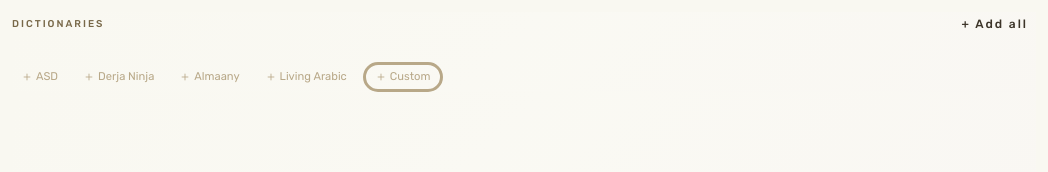
Test: DictionaryLinks › opens custom add form and autofills URL
This screenshot has width=1048, height=172.
Click the button "Custom": (403, 77) [363, 62, 443, 92]
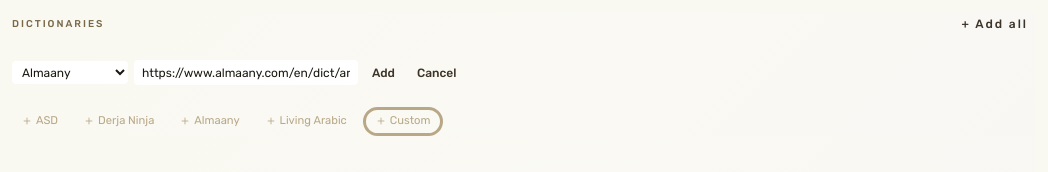
Now the field with placeholder "URL" holds "https://www.almaany.com/en/dict/ar-en/%D9%83%D8%AA%D8%A7%D8%A8", box [134, 60, 358, 85]
